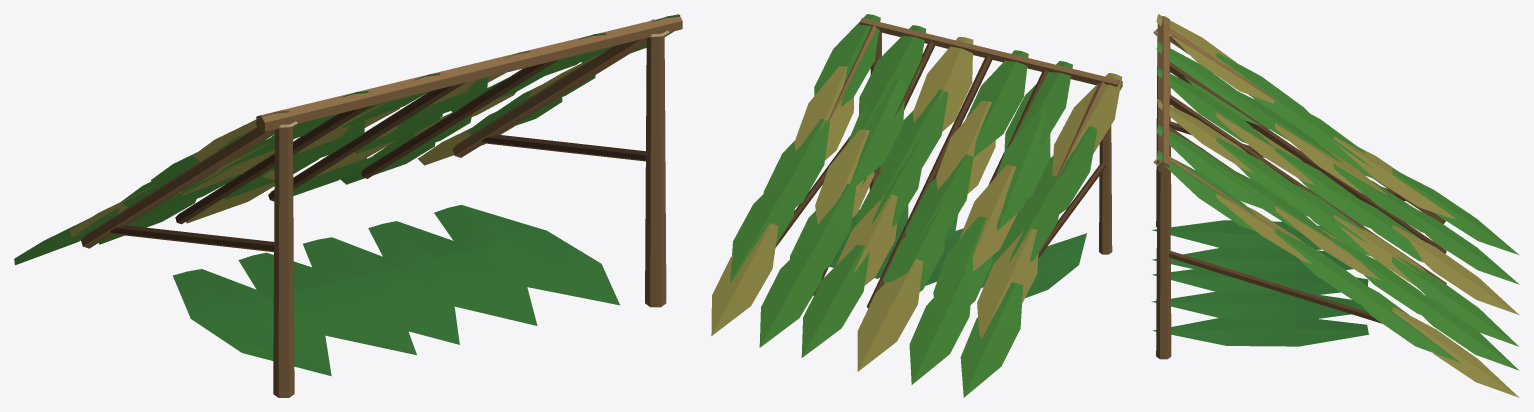
File: Shelter.fbx
3 views of the same model, side by side, from view 1: azimuth 30°, elevation 25°; view 2: azimuth 150°, elevation 25°; view 3: azimuth 270°, elevation 25° (orthographic). The views are drawn at different scales.
Parts seen in each view (by area): view 1: Shelter; view 2: Shelter; view 3: Shelter.
Boxes of the visible parts, bbox=[...] form: Shelter: bbox=[14, 14, 682, 397]; Shelter: bbox=[711, 14, 1122, 397]; Shelter: bbox=[1151, 14, 1519, 397].
Size of the model in its own units: 3.1 by 2.08 by 2.89.
